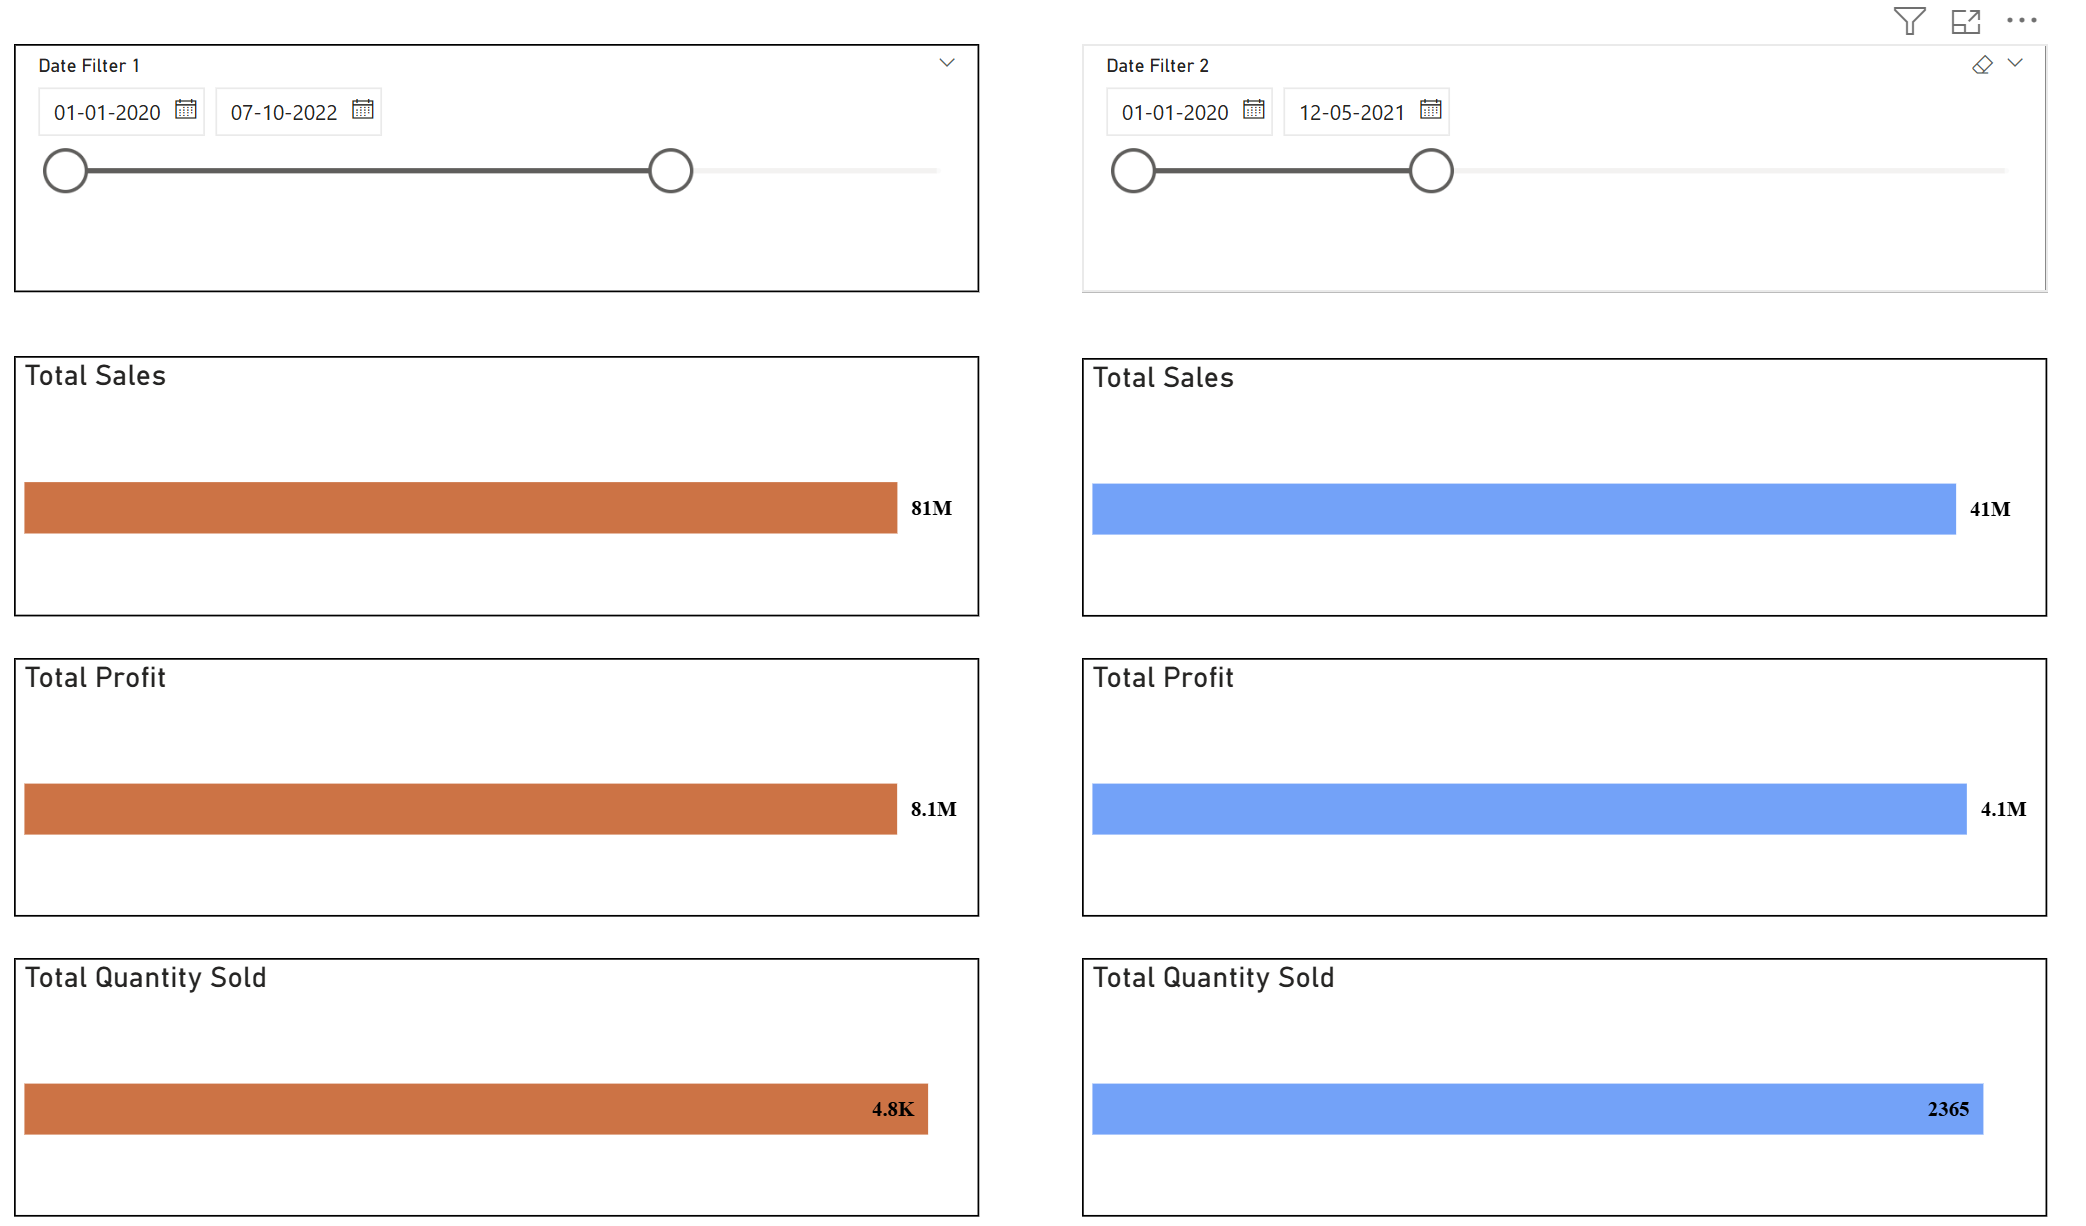

This screenshot's page, from the dashboard's own definition file:
{"tool":"powerbi","page":{"name":"Edit Interactions","canvas":[1280,720],"ordinal":3},"visuals":[{"type":"slicer","fields":{"Values":["Fact Table.Date (dd/mm/yyyy)"]},"box":[10.2,31.9,555.9,142.8],"z":0},{"type":"slicer","fields":{"Values":["Fact Table.Date (dd/mm/yyyy)"]},"box":[626,31.9,555.9,142.8],"z":1000},{"type":"barChart","title":"Total Sales  ","fields":{"Y":["Sum(Fact Table.Net Sales  )"]},"box":[10,211.5,556,150],"z":2000},{"type":"barChart","title":"Total Profit","fields":{"Y":["Sum(Fact Table.Profit)"]},"box":[10.2,386.3,555.9,149.2],"z":3000},{"type":"barChart","title":"Total Quantity Sold","fields":{"Y":["Sum(Fact Table.Units Sold)"]},"box":[10.2,558.4,555.9,149.2],"z":4000},{"type":"barChart","title":"Total Sales  ","fields":{"Y":["Sum(Fact Table.Net Sales  )"]},"box":[626,212.9,555.9,149.2],"z":5000},{"type":"barChart","title":"Total Profit","fields":{"Y":["Sum(Fact Table.Profit)"]},"box":[626,386.3,555.9,149.2],"z":6000},{"type":"barChart","title":"Total Quantity Sold","fields":{"Y":["Sum(Fact Table.Units Sold)"]},"box":[626,558.4,555.9,149.2],"z":7000}]}

Visuals, with their boxes on the page's 1280x720 design canvas (x1, y1, x2, y2). These are canvas units, not pixel positions in the 2086x1226 screenshot, which may show the page scaled, cropped or inside an application window:
slicer - Fact Table.Date (dd/mm/yyyy): BBox(10, 32, 566, 175)
slicer - Fact Table.Date (dd/mm/yyyy): BBox(626, 32, 1182, 175)
"Total Sales  " barChart: BBox(10, 212, 566, 362)
"Total Profit" barChart: BBox(10, 386, 566, 536)
"Total Quantity Sold" barChart: BBox(10, 558, 566, 708)
"Total Sales  " barChart: BBox(626, 213, 1182, 362)
"Total Profit" barChart: BBox(626, 386, 1182, 536)
"Total Quantity Sold" barChart: BBox(626, 558, 1182, 708)
